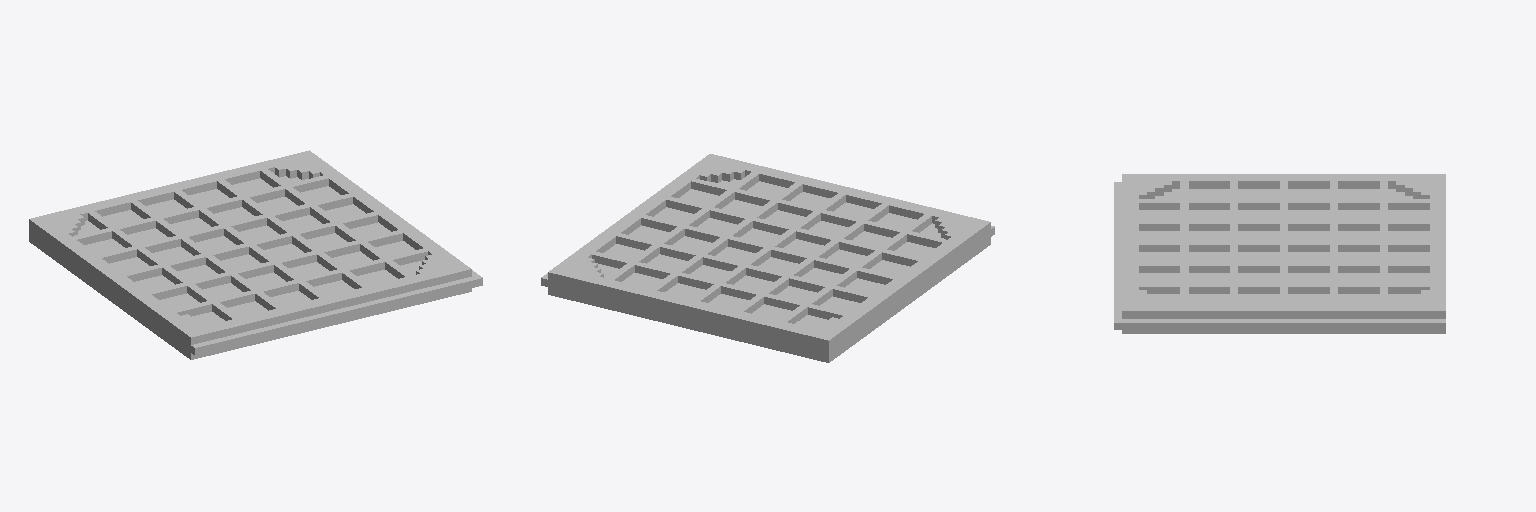
Rendered from Architeture1-16.obj.
3 renders of one model, left to right at view 1: azimuth 30°, elevation 25°; view 2: azimuth 150°, elevation 25°; view 3: azimuth 270°, elevation 25°, orthographic.
Parts seen in each view (by area): view 1: object 1; view 2: object 1; view 3: object 1.
Boxes of the visible parts, box(x1,y1,x2,y2) form: object 1: box(29, 150, 482, 359); object 1: box(541, 154, 994, 362); object 1: box(1114, 174, 1445, 333).
Size of the model in its own units: 4 by 0.3 by 4.